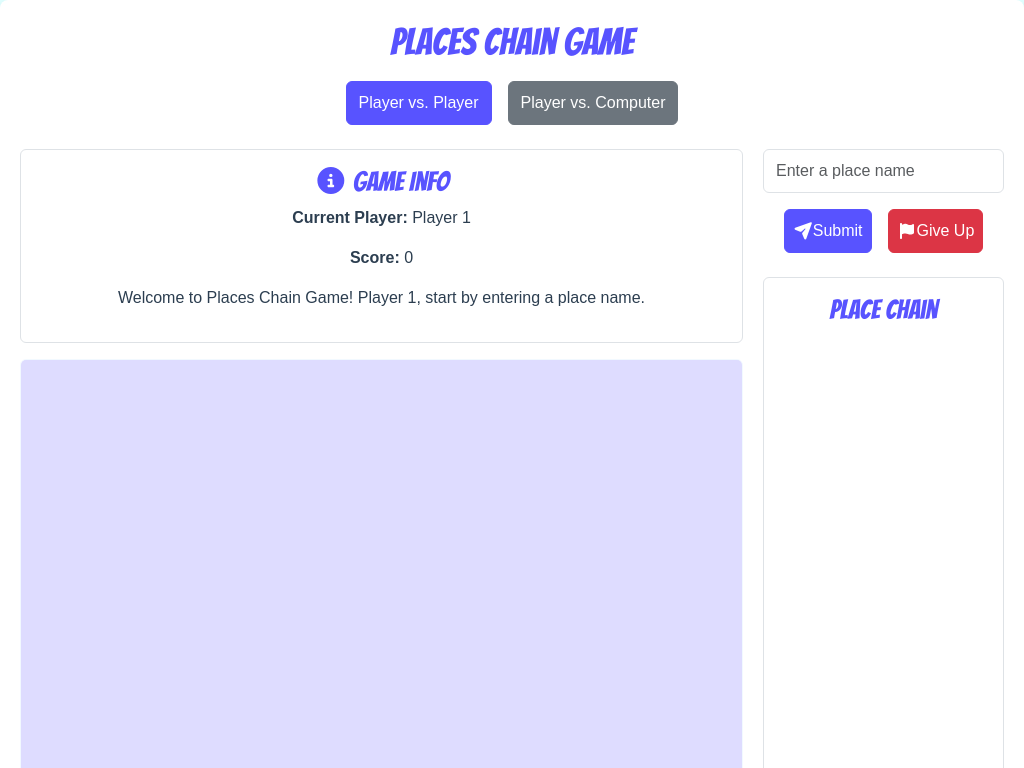
Test case: App › handles invalid place submission
Step 1. Type "InvalidPlace" into the field with placeholder "Enter a place name" → (884, 171), box top-left (763, 149), bottom-right (1004, 193)
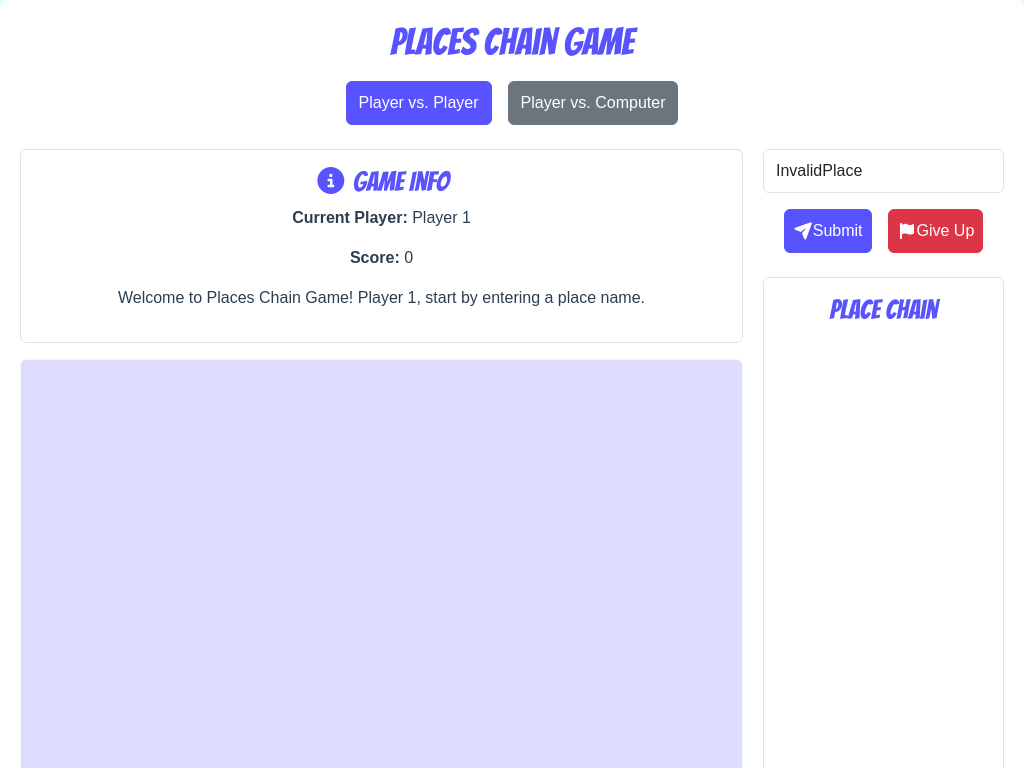
Step 2. Click the button "Submit" → (828, 231), box top-left (784, 209), bottom-right (872, 253)
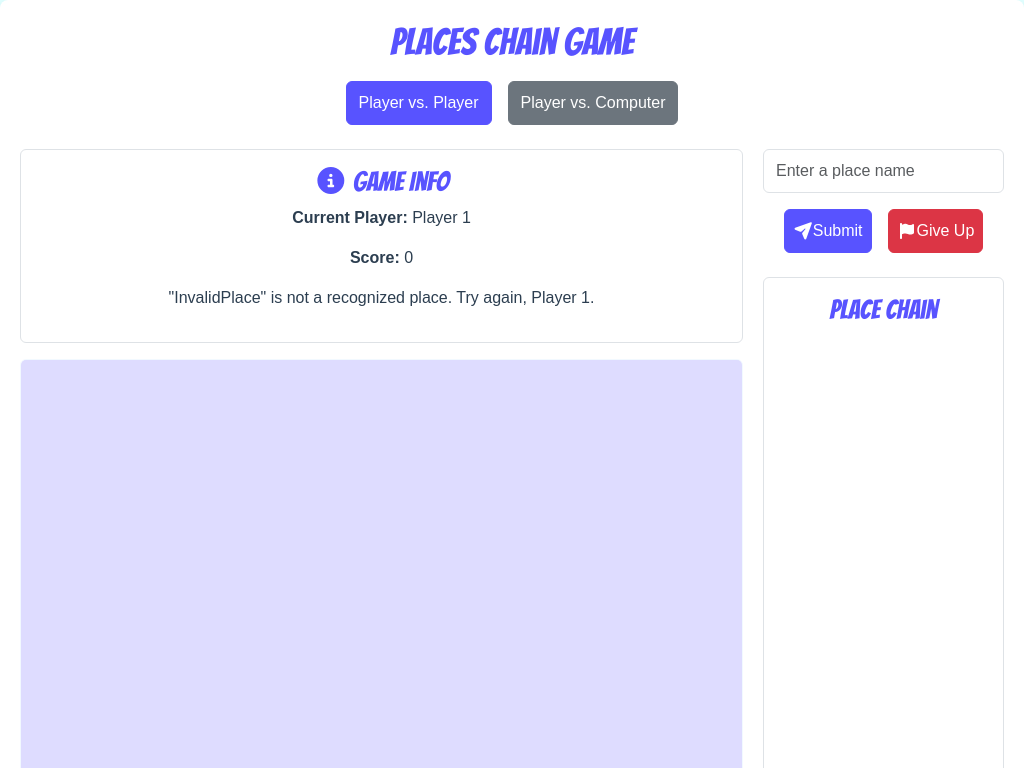
Expected: the text "is not a recognized place" is shown, top-left (169, 289), bottom-right (594, 306)
